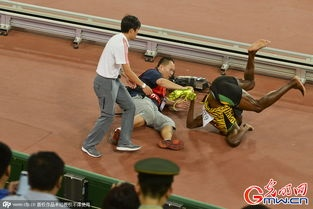falling: (195, 32, 309, 133)
